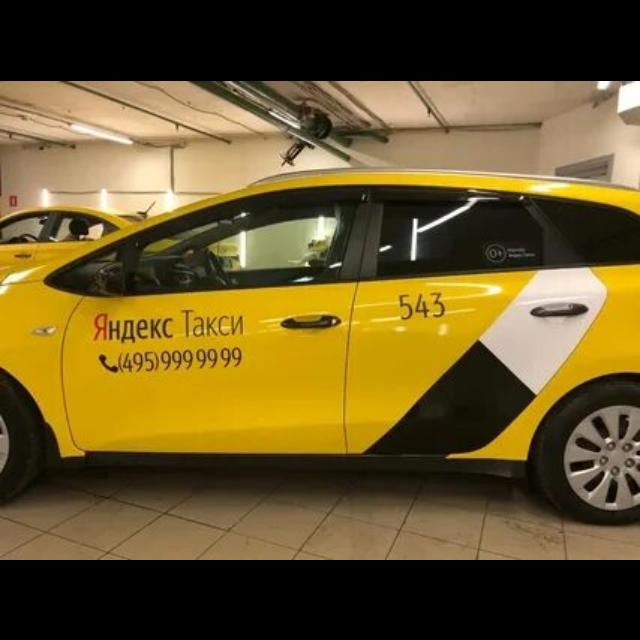taxi: (1, 166, 639, 525), (2, 196, 211, 291)
